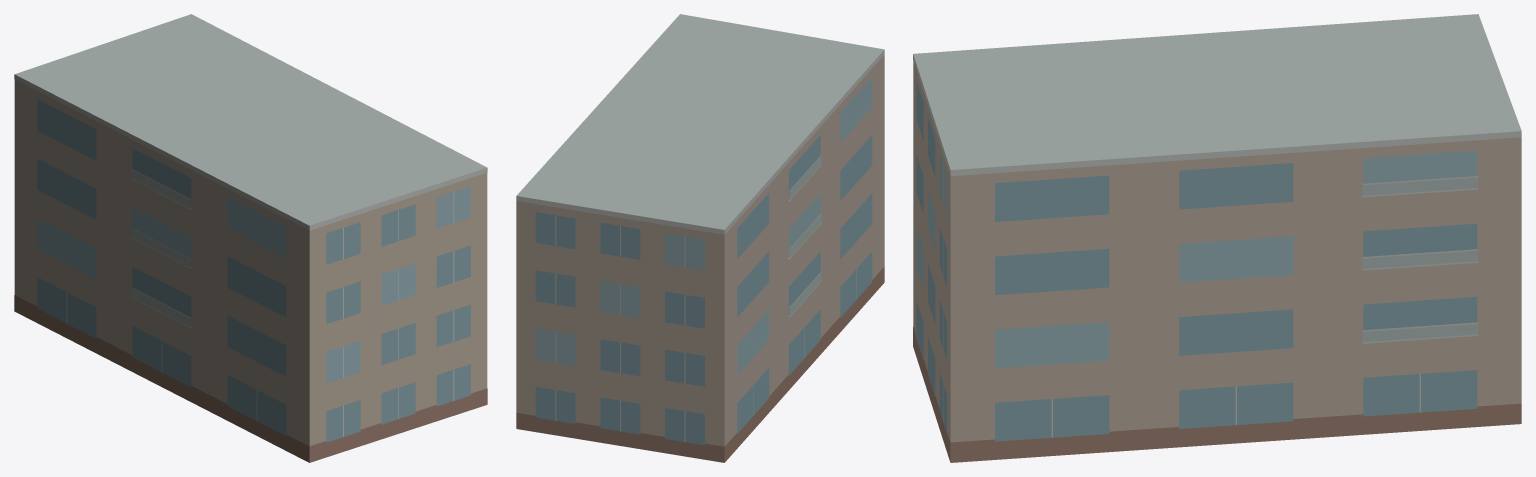
The model's file is survey-upis-32576348.glb.
The picture shows the model from 3 angles, left to right: view 1: azimuth 30°, elevation 25°; view 2: azimuth 150°, elevation 25°; view 3: azimuth 270°, elevation 25°; orthographic projection. The views are drawn at different scales.
Parts seen in each view (by area): view 1: survey-upis-32576348.tmp; view 2: survey-upis-32576348.tmp; view 3: survey-upis-32576348.tmp.
Part boxes in pixels (x1,y1,x2,y2): survey-upis-32576348.tmp: (14, 14, 487, 462); survey-upis-32576348.tmp: (516, 14, 884, 462); survey-upis-32576348.tmp: (913, 14, 1521, 462).
Bounding box in the file's own units: 13.39 × 11.7 × 22.05.
